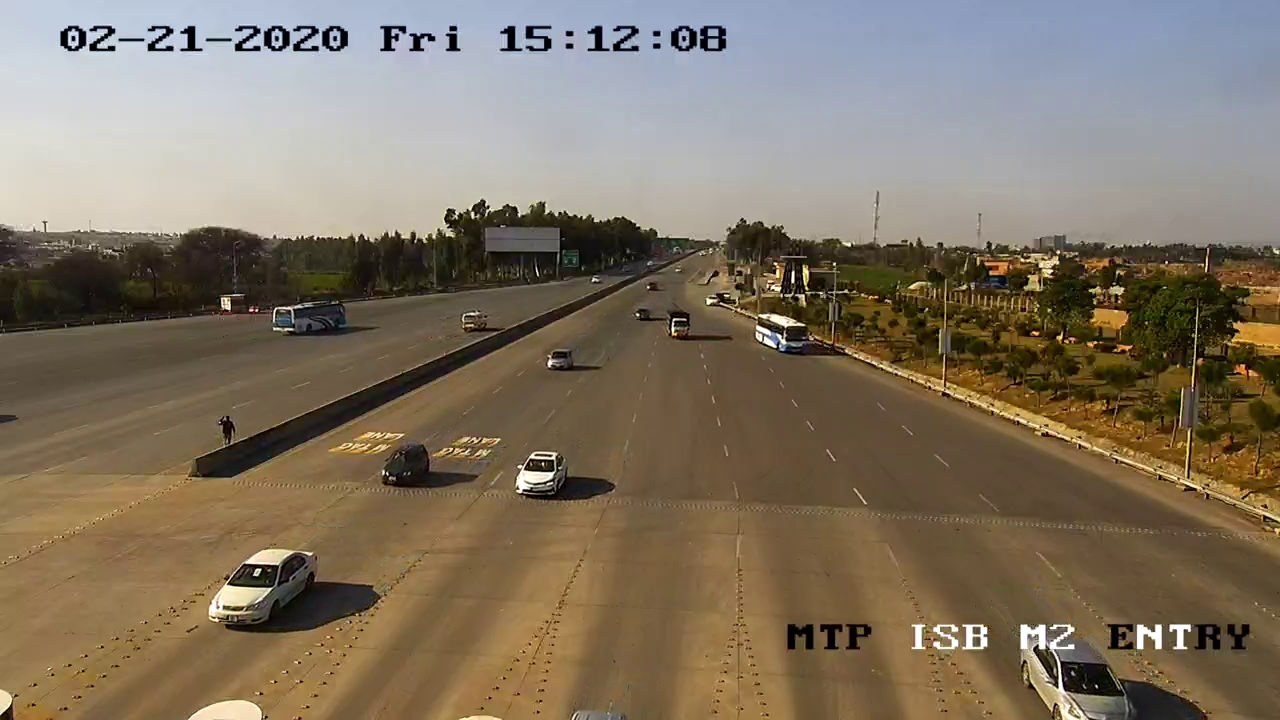f1: (198, 541, 328, 635), (507, 445, 573, 503), (377, 437, 437, 494)
